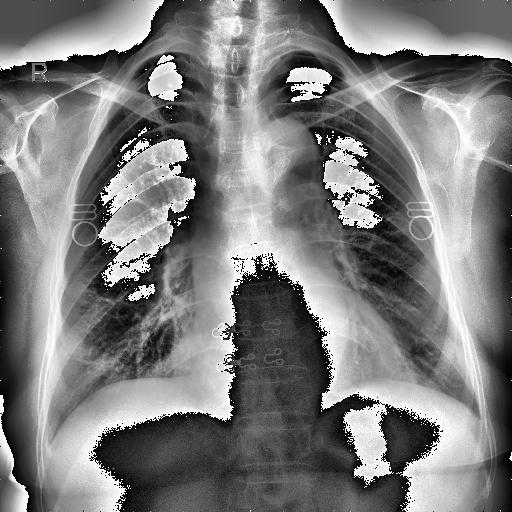0- Aortic enlargement: (248, 114, 330, 216), (244, 118, 325, 204), (258, 115, 320, 177)
3- Cardiomegaly: (185, 340, 418, 415), (191, 324, 403, 384)
8- Nodule-Mass: (166, 81, 174, 88), (166, 82, 175, 88)
